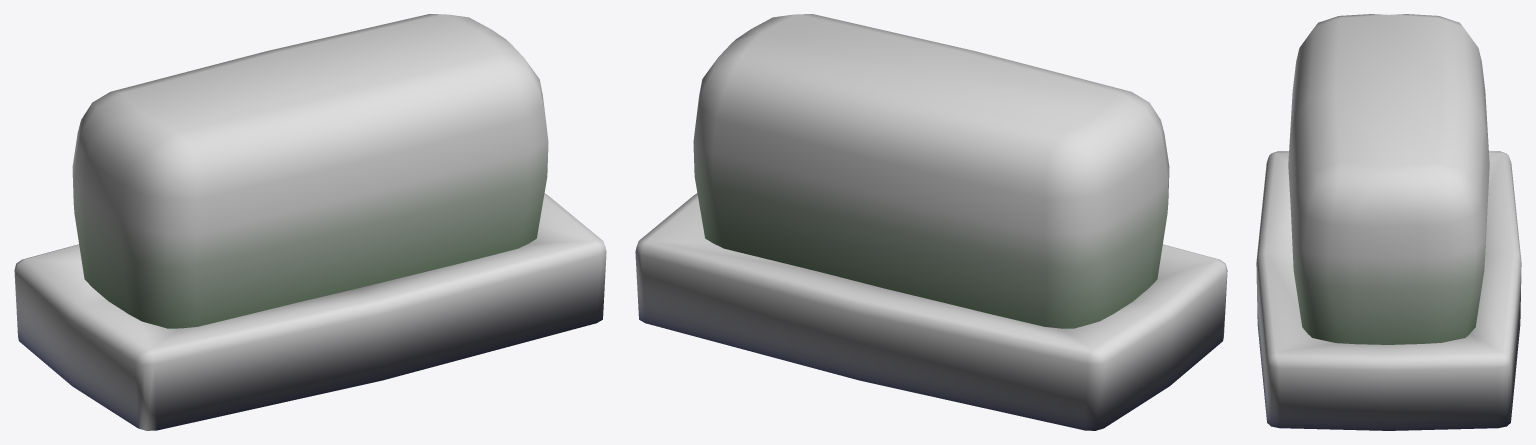
The model's file is NF_Veg_Bush_01.fbx.
3 renders of one model, left to right at view 1: azimuth 30°, elevation 25°; view 2: azimuth 150°, elevation 25°; view 3: azimuth 270°, elevation 25°, orthographic. The views are drawn at different scales.
Visible parts, largest first — view 1: Bush 01; view 2: Bush 01; view 3: Bush 01.
Part boxes in pixels (x1,y1,x2,y2): Bush 01: (14,14,606,430); Bush 01: (635,14,1227,430); Bush 01: (1256,14,1521,430).
Bounding box in the file's own units: 2.11 × 1.07 × 1.1.
